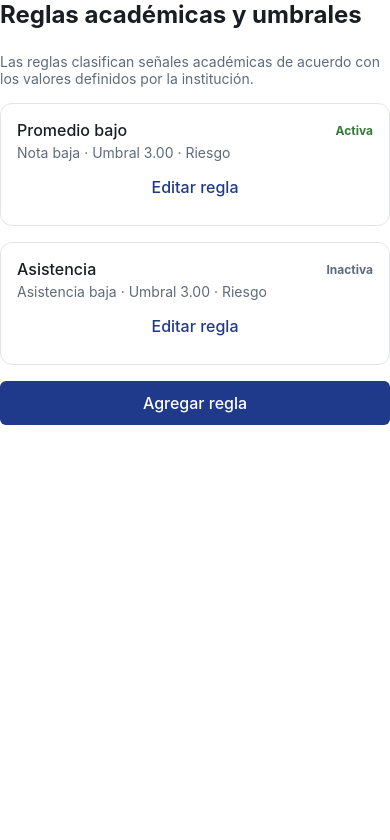
Test: crea una regla nueva eligiendo tipo y severidad
This screenshot has width=390, height=840.
Click the button "Agregar regla" at x=195, y=403, box [0,381,389,425]
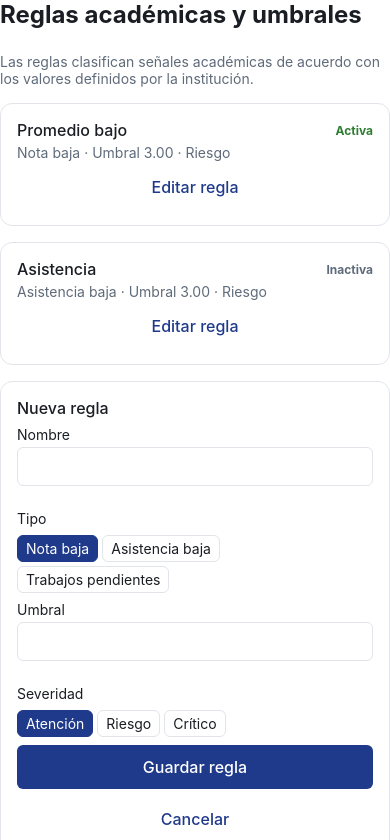
Expected: the text "Nueva regla" is shown, [17,398,109,418]
Click the button "Guardar regla" at x=195, y=767, box [17,745,373,789]
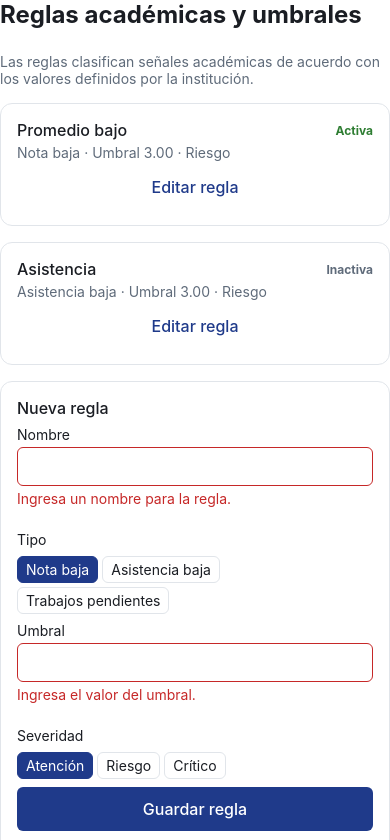
Expected: the text "Ingresa un nombre para la regla." is shown, [17,490,231,507]
Expected: the text "Ingresa el valor del umbral." is shown, [17,686,196,703]
Type "  Pendientes  " into the field named "Nombre" at x=195, y=466, box [17,447,373,486]
Click the button "Trabajos pendientes" at x=93, y=600, box [17,587,170,614]
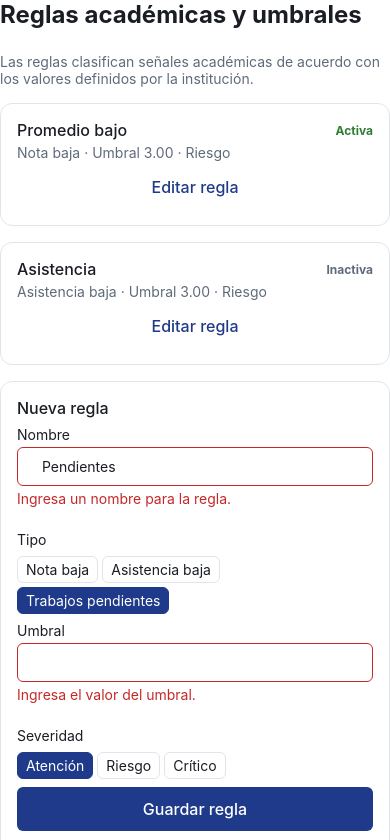
Type " 4 " into the field named "Umbral" at x=195, y=662, box [17,643,373,682]
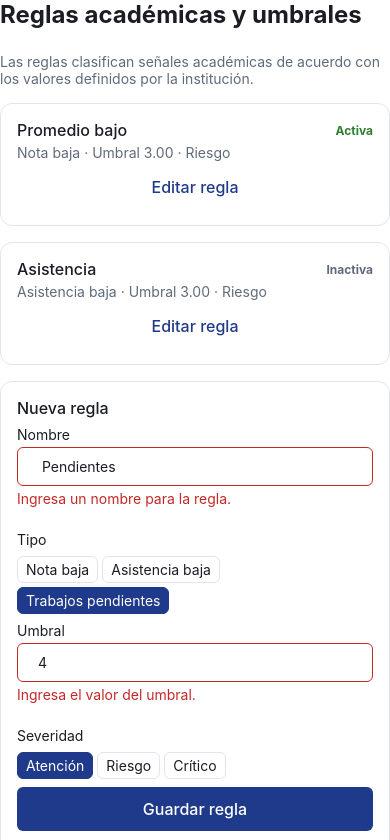
Click the button "Crítico" at x=195, y=766, box [164,752,226,779]
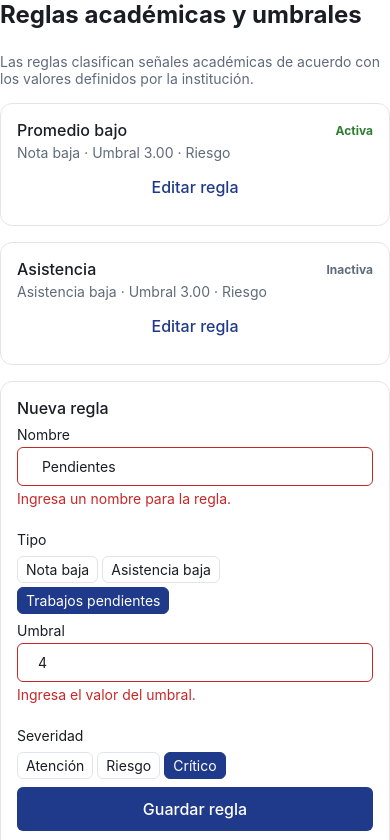
Click the button "Guardar regla" at x=195, y=809, box [17,787,373,831]
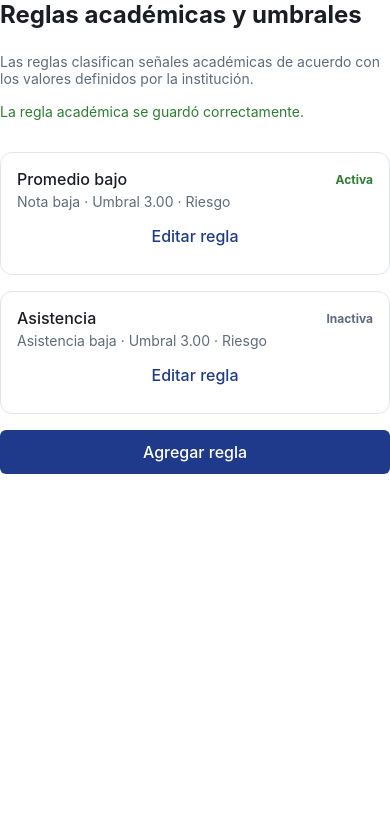
Expected: the text "La regla académica se guardó correctamente." is shown, [0,103,304,120]
Expected: the text "Agregar regla" is shown, [143,442,247,462]
